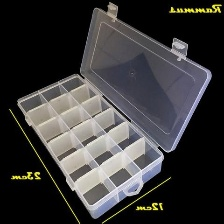plastic_box: (10, 0, 217, 224)
